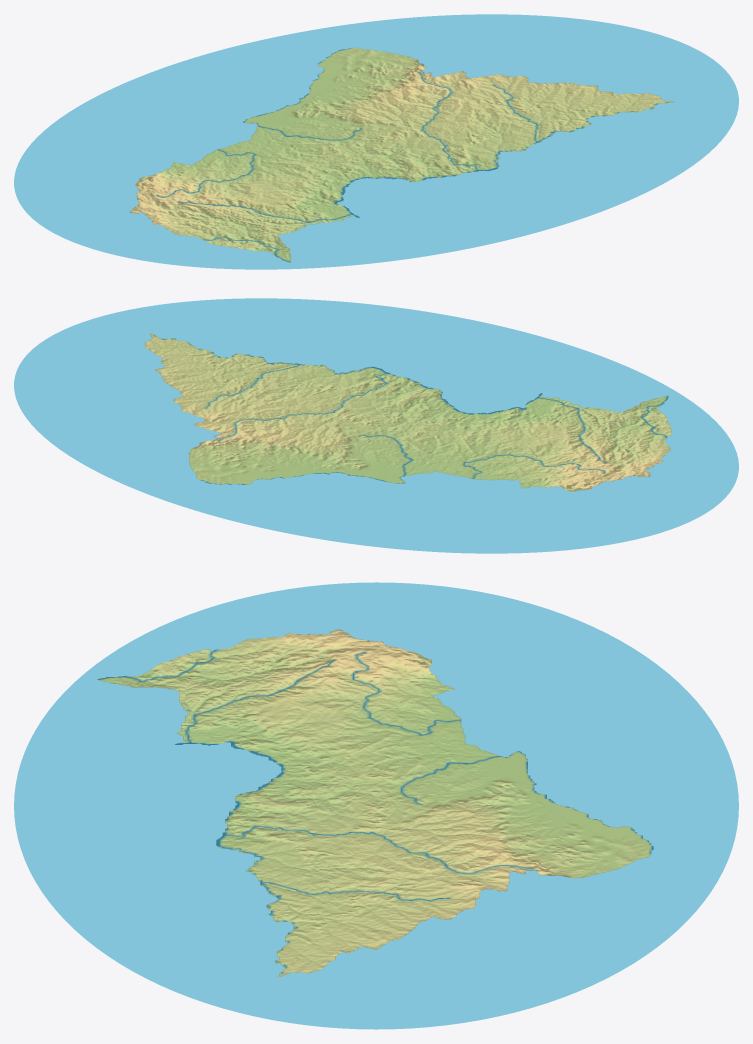
Rendered from CAF-terrain.glb.
The picture shows the model from 3 angles, top to bottom: view 1: azimuth 30°, elevation 25°; view 2: azimuth 150°, elevation 25°; view 3: azimuth 270°, elevation 25°; orthographic projection. The views are drawn at different scales.
Visible parts, largest first — view 1: Relevo com hidrografia; view 2: Relevo com hidrografia; view 3: Relevo com hidrografia.
Part boxes in pixels (left/top/right/bottom): Relevo com hidrografia: left=14, top=14, right=738, bottom=269; Relevo com hidrografia: left=14, top=298, right=738, bottom=553; Relevo com hidrografia: left=14, top=582, right=738, bottom=1029.
Size of the model in its own units: 2.07 by 0.0131 by 1.42.
2 materials, 1 textured.
